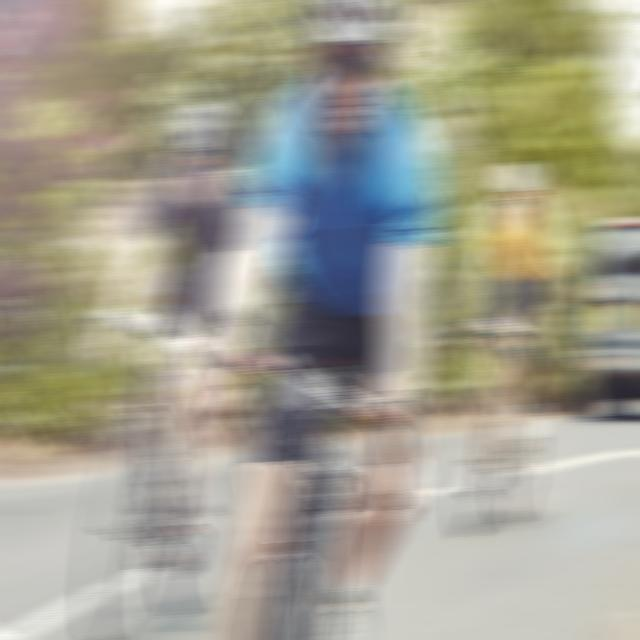With Helmet: (298, 0, 409, 161), (160, 90, 236, 210), (489, 135, 545, 228)
Without Helmet: (160, 90, 236, 210)
